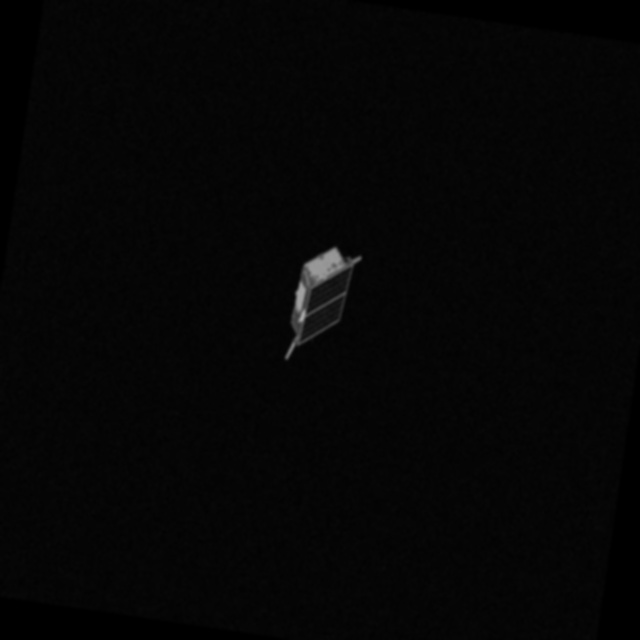satellite: (274, 229, 372, 381)
